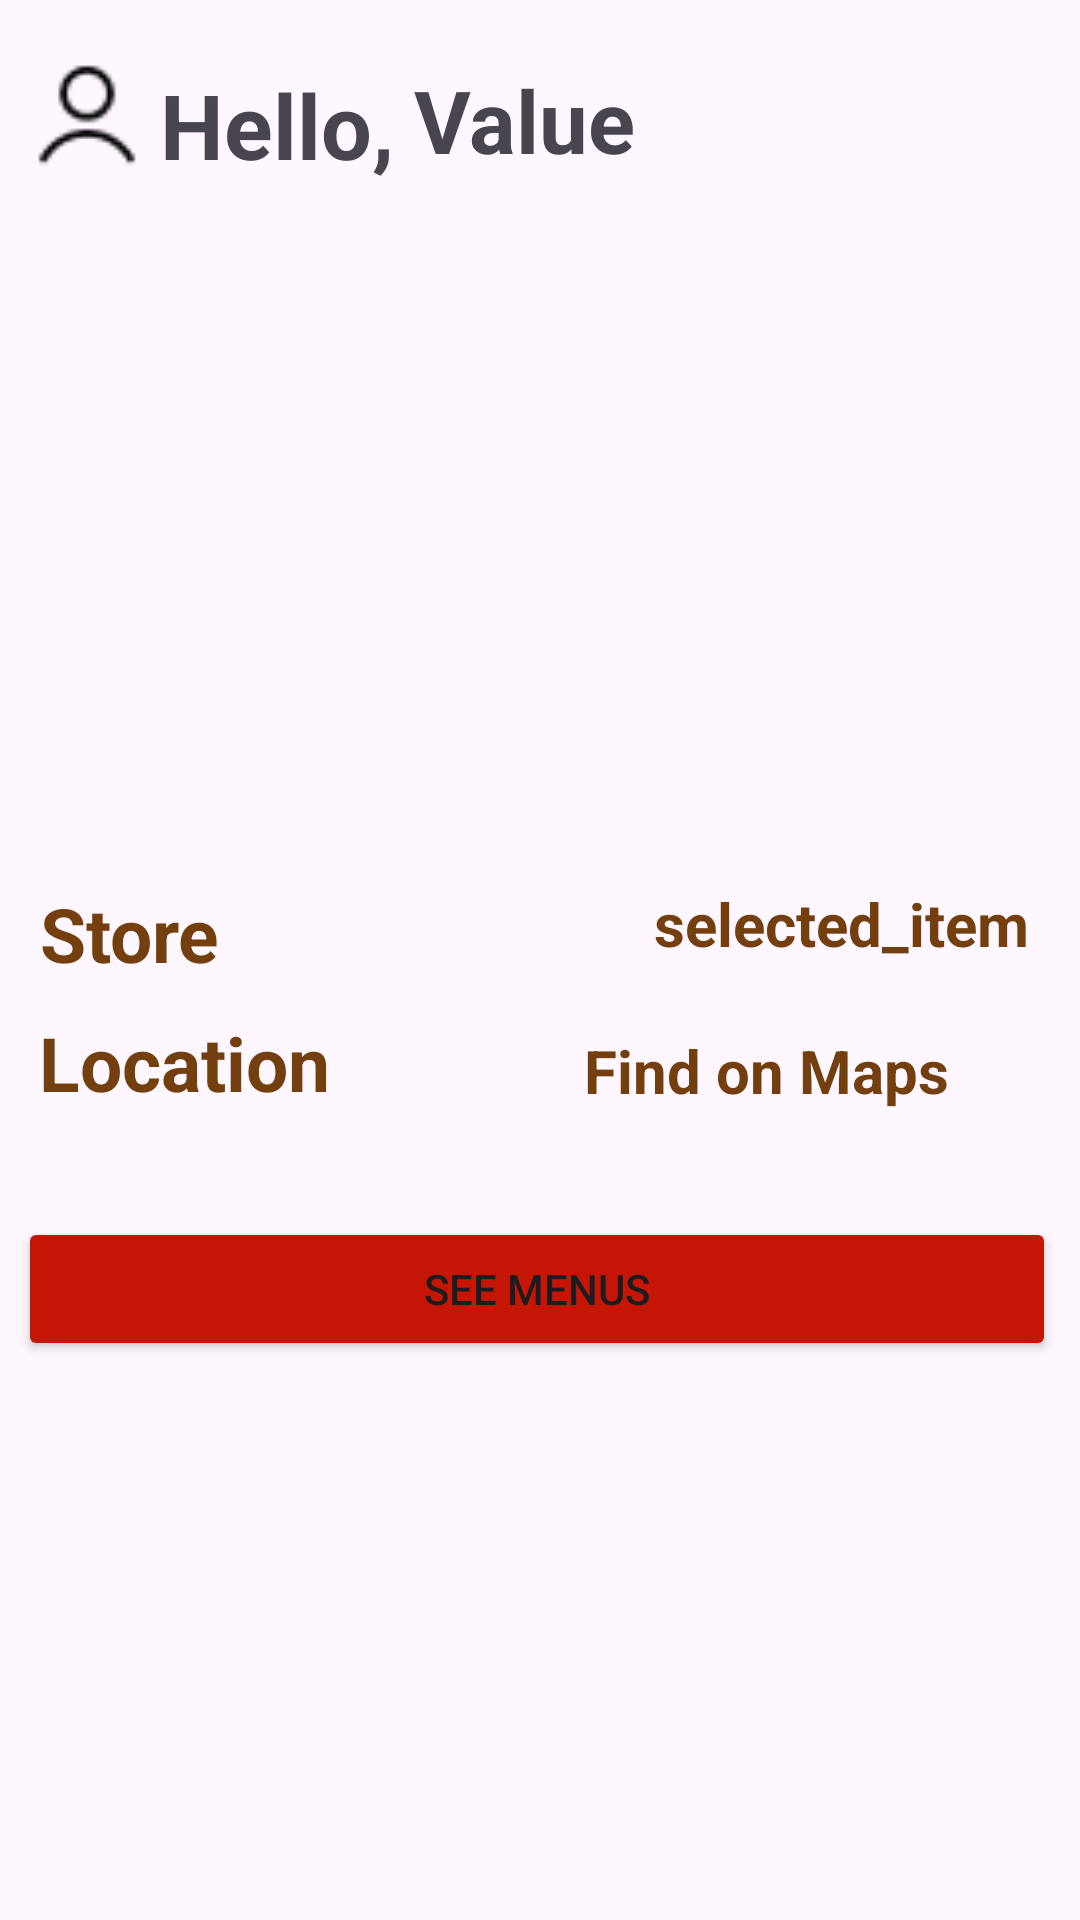

Locate icon controls on the screen. Image size 1080 x 1920, boxes as (x1, y1, x2, y2).
person: (38, 65, 136, 164)
